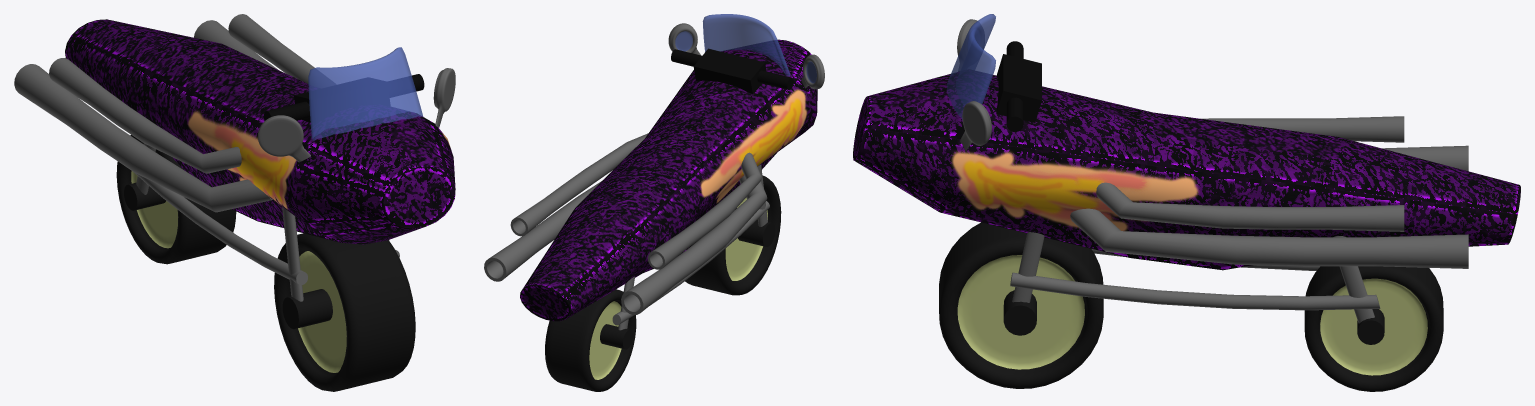
The model's file is VZ_Bike_Unity_Collapsed.FBX.
3 views of the same model, side by side, from view 1: azimuth 30°, elevation 25°; view 2: azimuth 150°, elevation 25°; view 3: azimuth 270°, elevation 25° (orthographic). The views are drawn at different scales.
Visible parts, largest first — view 1: Cylinder005, Cylinder001, Tube005, Tube006, Box001, Cylinder002, Cylinder008, Cylinder006, Box002, Cylinder003, Cylinder007, Tube001 (+1 smaller); view 2: Cylinder005, Tube005, Cylinder002, Tube006, Cylinder001, Box001, Box002, Cylinder008, Cylinder007, Cylinder006, Cylinder003, Cylinder004; view 3: Cylinder005, Cylinder001, Cylinder002, Tube005, Tube006, Cylinder006, Box001, Box002, Cylinder008, Cylinder003, Tube002, Tube003 (+2 smaller).
Boxes of the visible parts, x1,y1,x2,y2 form: Cylinder005: (65, 19, 455, 244); Cylinder001: (274, 233, 415, 391); Tube005: (14, 20, 277, 212); Tube006: (49, 14, 335, 173); Box001: (308, 47, 423, 140); Cylinder002: (116, 135, 236, 264); Cylinder008: (258, 68, 455, 162); Cylinder006: (133, 172, 399, 284); Box002: (294, 78, 389, 122); Cylinder003: (282, 289, 332, 329); Cylinder007: (264, 74, 424, 120); Tube001: (282, 207, 303, 301); Cylinder005: (520, 39, 817, 321); Tube005: (484, 175, 767, 314); Cylinder002: (545, 289, 636, 391); Tube006: (510, 133, 761, 269); Cylinder001: (685, 175, 781, 295); Box001: (702, 14, 790, 76); Box002: (693, 48, 766, 94); Cylinder008: (668, 23, 824, 89); Cylinder007: (671, 49, 793, 89); Cylinder006: (612, 201, 769, 325); Cylinder003: (738, 219, 775, 246); Cylinder004: (600, 324, 632, 349); Cylinder005: (853, 70, 1520, 270); Cylinder001: (939, 222, 1103, 388); Cylinder002: (1304, 266, 1443, 391); Tube005: (1070, 145, 1468, 268); Tube006: (1096, 116, 1404, 231); Cylinder006: (1010, 249, 1380, 310); Box001: (947, 14, 995, 119); Box002: (996, 54, 1041, 122); Cylinder008: (957, 19, 991, 150); Cylinder003: (1003, 290, 1036, 335); Tube002: (1012, 232, 1044, 302); Tube003: (1333, 236, 1374, 323).
Bounding box in the file's own units: 48.28 × 74.77 × 132.
